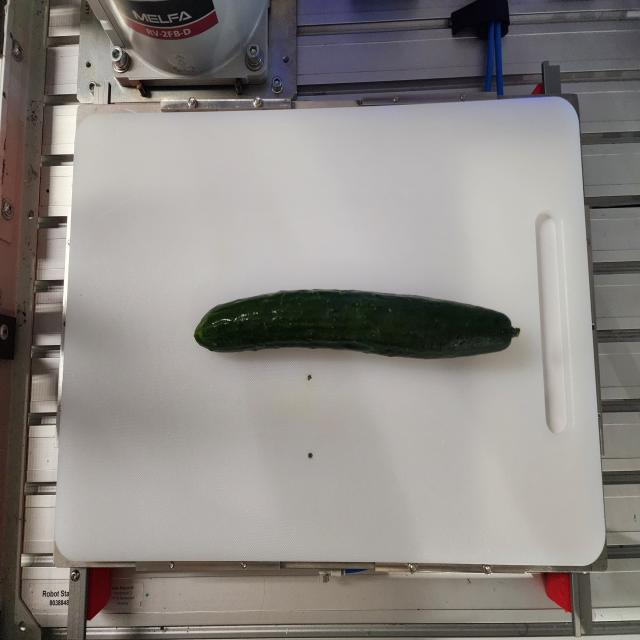cucumber: (193, 288, 521, 360)
